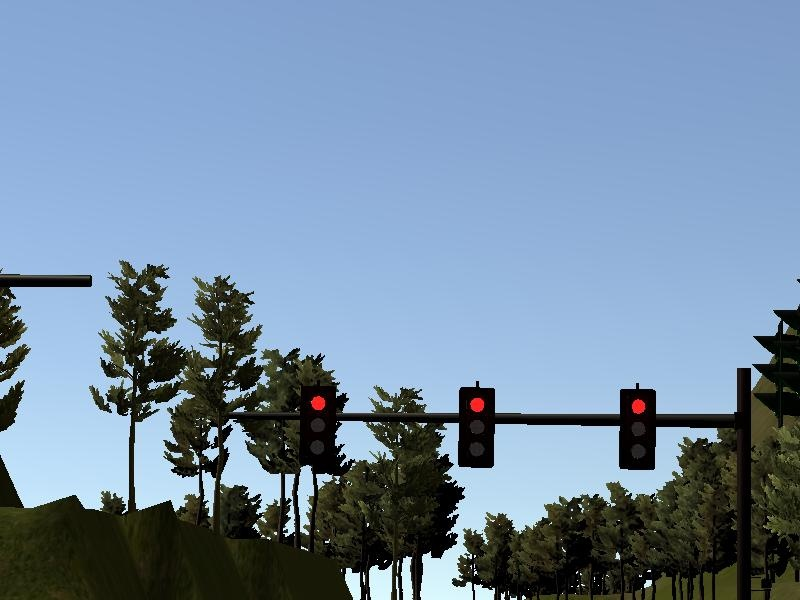red: (457, 387, 496, 467), (297, 382, 336, 462), (619, 390, 658, 470)
